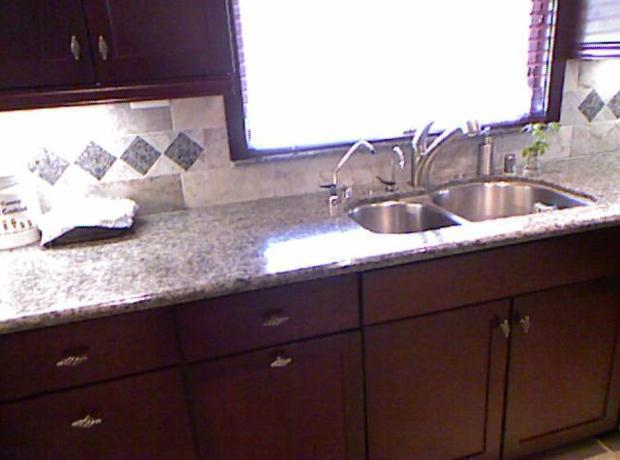Lavaplatos: (333, 112, 604, 248)
